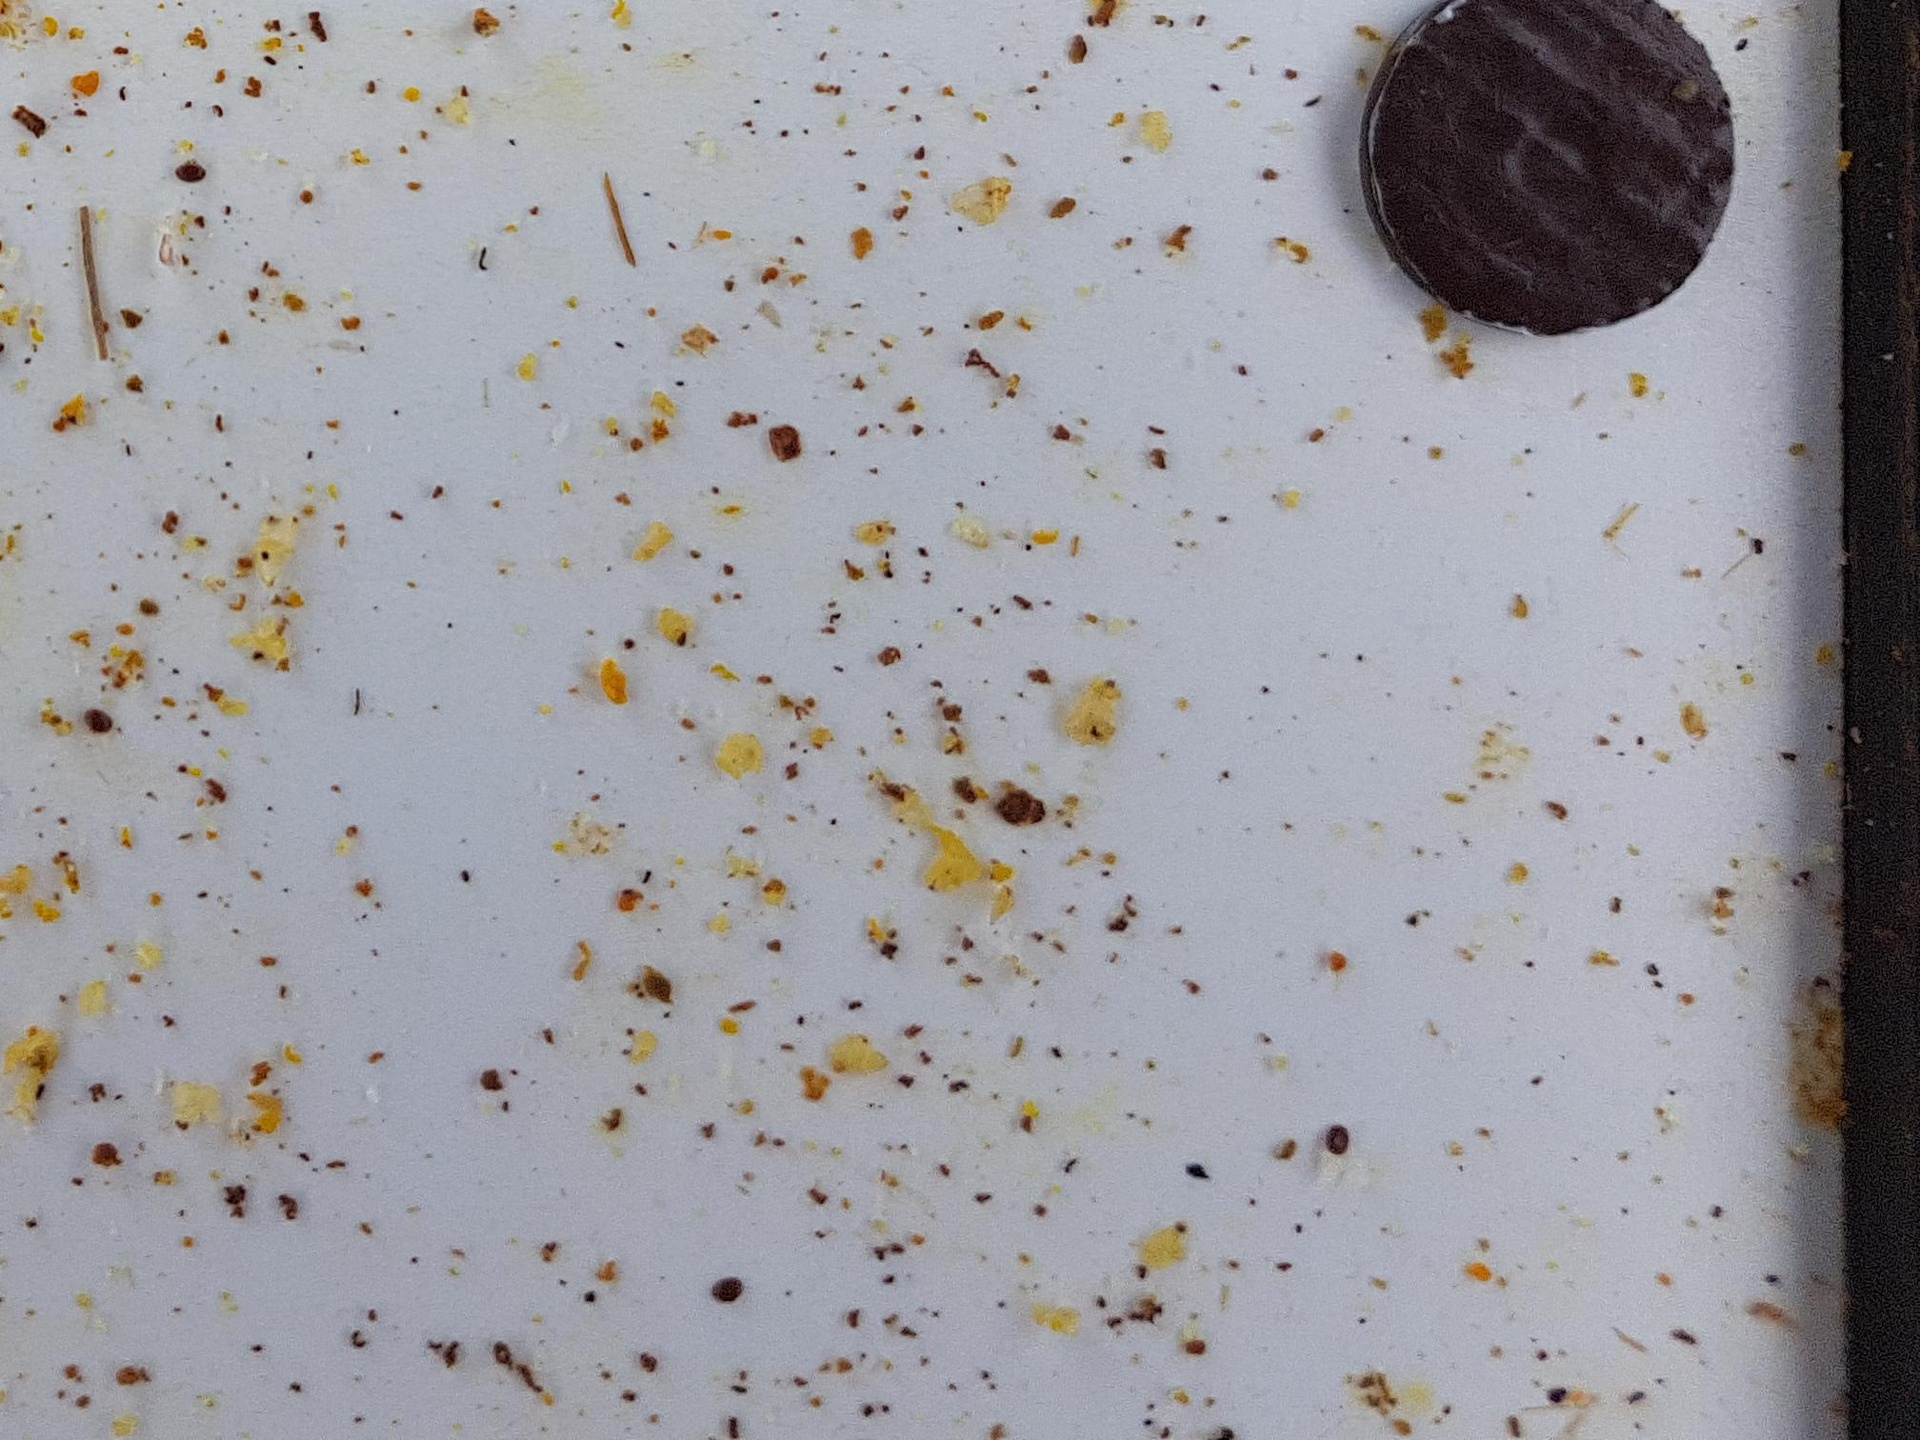Varroa: (1315, 1113, 1358, 1159), (172, 148, 215, 194), (80, 703, 121, 746), (712, 1266, 751, 1308)
